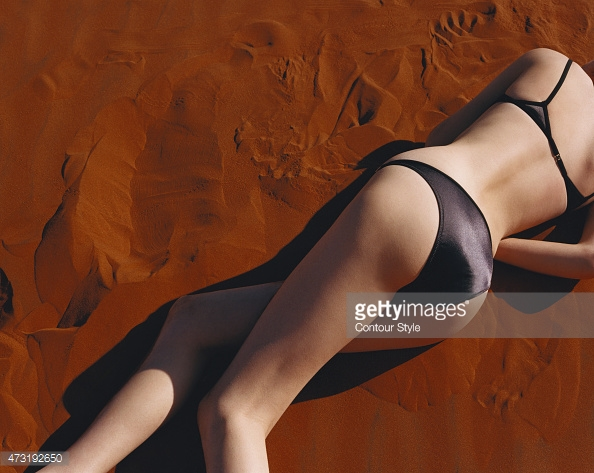deitado: (0, 28, 585, 473)
